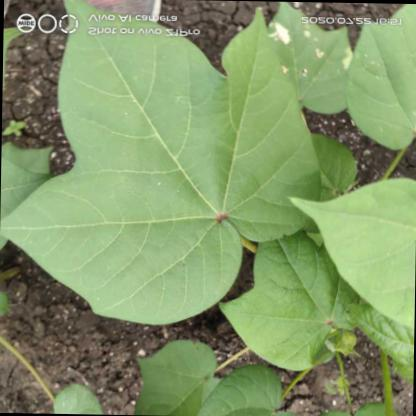cotton: (6, 1, 322, 328)
